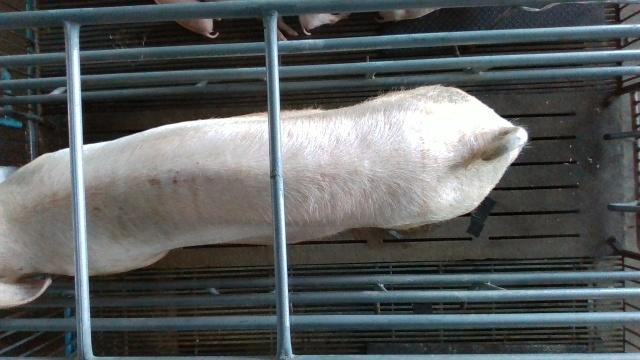sow-stand-feed: (0, 83, 529, 310)
